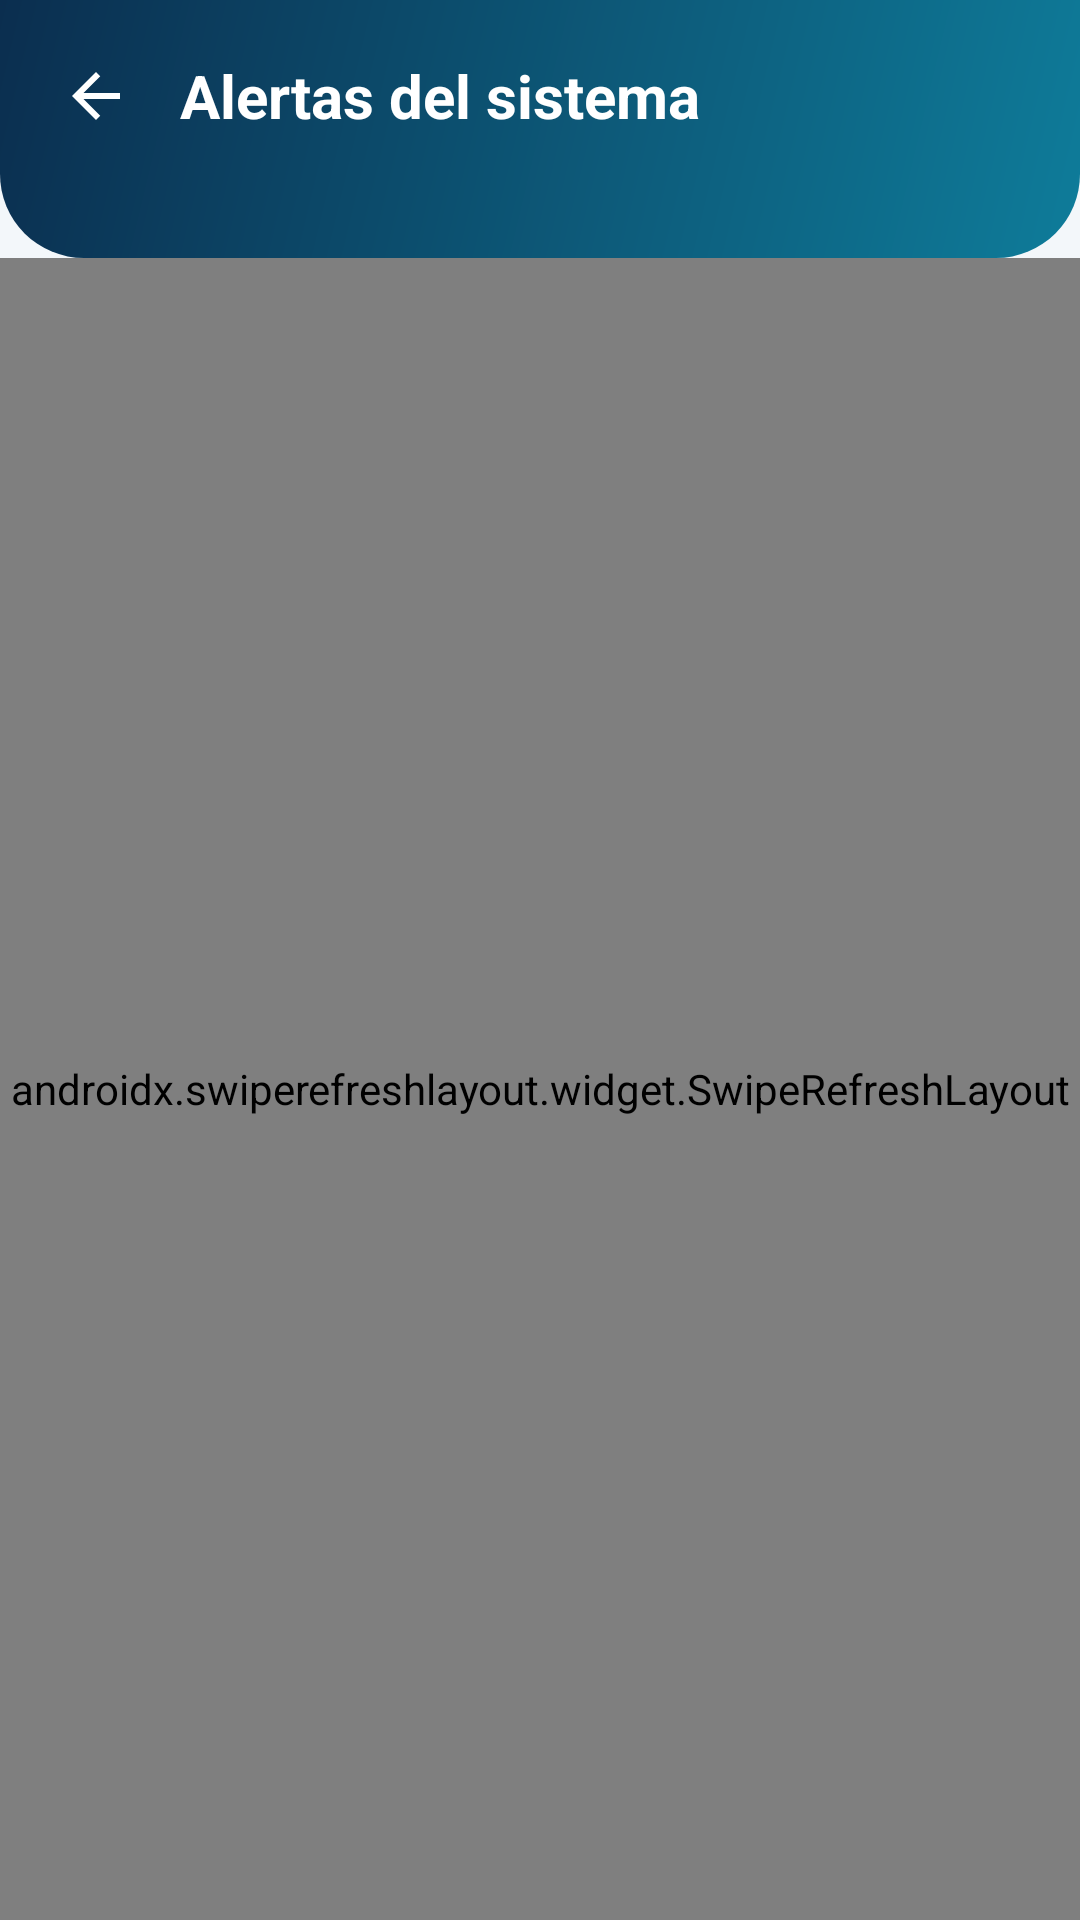

Named icons in this screenshot (1080x1920) and their bounding boxes, (x1, y1, x2, y2):
Volver: (72, 72, 120, 120)
